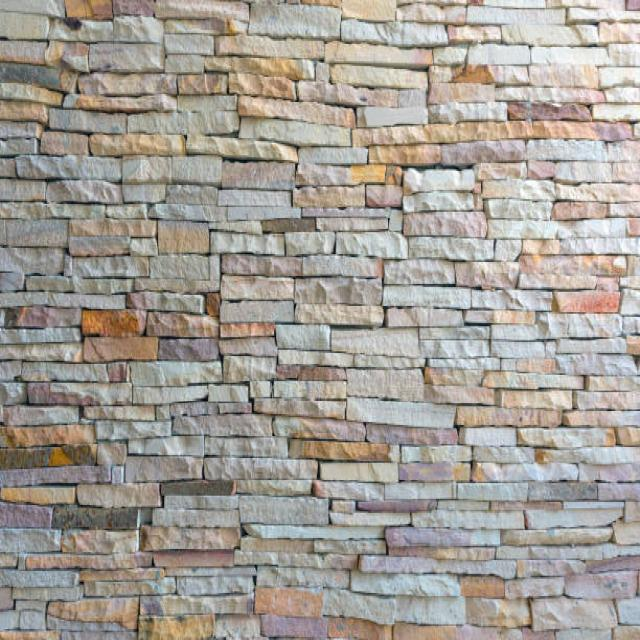Sedimentary: (1, 1, 640, 634)
